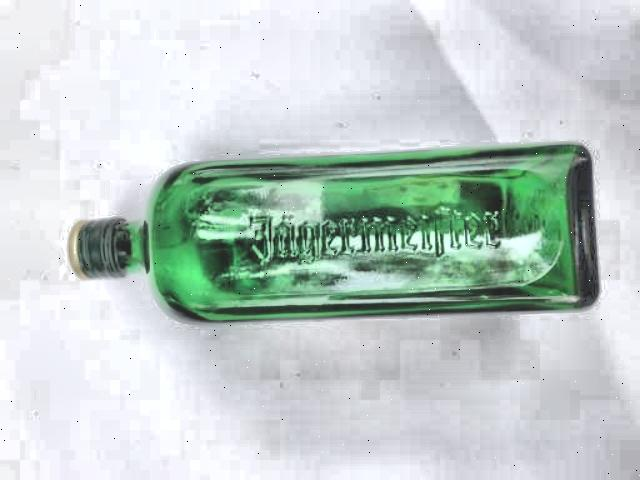Bottles: (27, 103, 613, 357)
